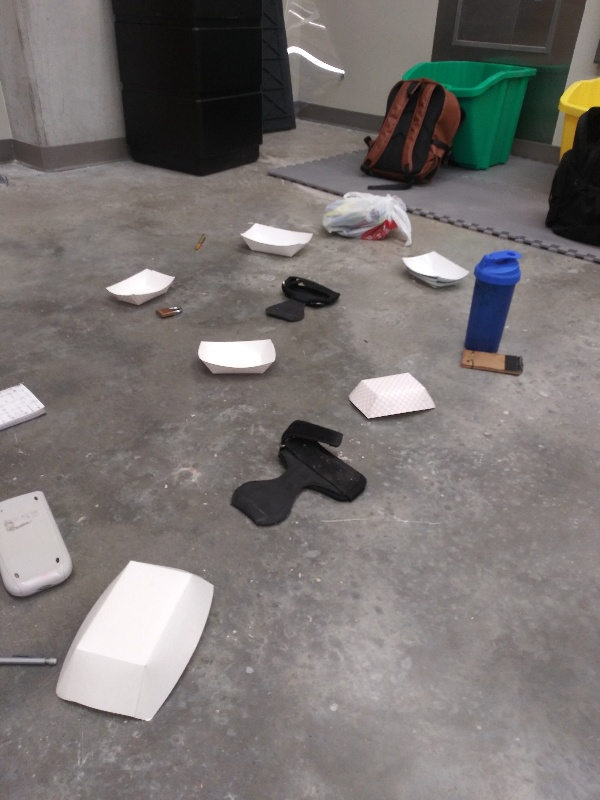plate: (43, 556, 217, 730), (342, 370, 437, 427), (195, 337, 281, 379), (396, 248, 473, 291), (100, 266, 176, 309), (235, 220, 315, 259)
